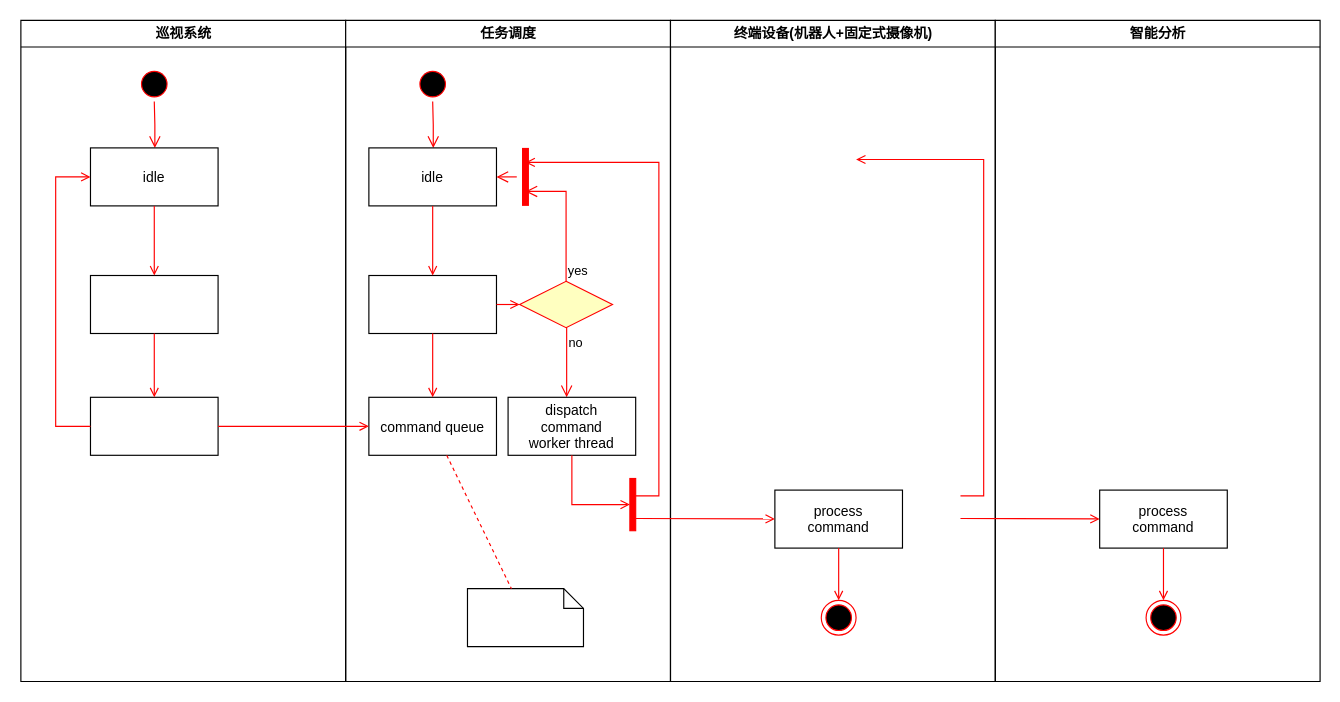
This 1340x702 diagram has some shape labels left out. The box of each missing label's shape, as (x1, y1, x2, y2) in pixels:
check for new commands: (368, 274, 496, 334)
critical section: (466, 588, 583, 647)
post command: (89, 396, 218, 455)
queue empty: (519, 280, 612, 328)
user action: (89, 274, 218, 334)
